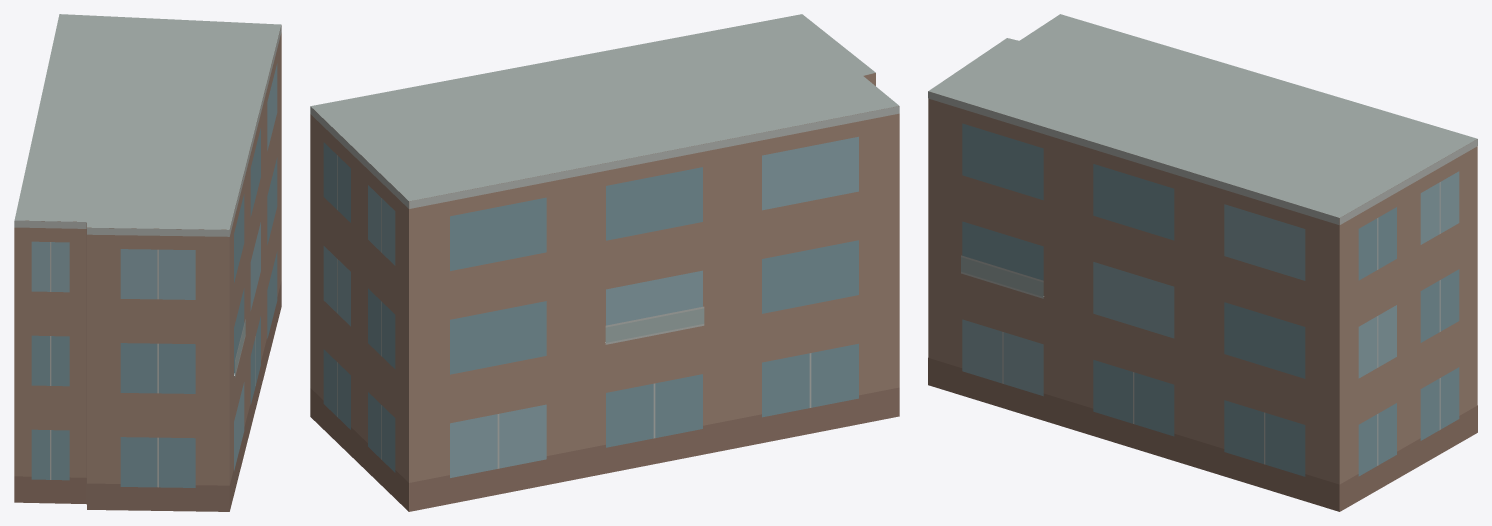
File: survey-upis-32878929.glb
3 views of the same model, side by side, from view 1: azimuth 30°, elevation 25°; view 2: azimuth 150°, elevation 25°; view 3: azimuth 270°, elevation 25° (orthographic). The views are drawn at different scales.
Visible parts, largest first — view 1: survey-upis-32878929.tmp; view 2: survey-upis-32878929.tmp; view 3: survey-upis-32878929.tmp.
Boxes of the visible parts, x1,y1,x2,y2 form: survey-upis-32878929.tmp: (14, 14, 281, 511); survey-upis-32878929.tmp: (310, 14, 899, 511); survey-upis-32878929.tmp: (928, 14, 1477, 511).
Size of the model in its own units: 14.59 by 9.8 by 16.61.
